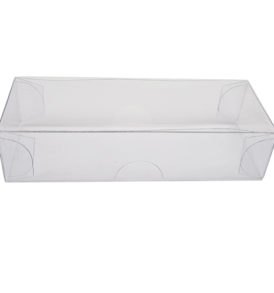PlasticBox: (1, 71, 274, 186)
